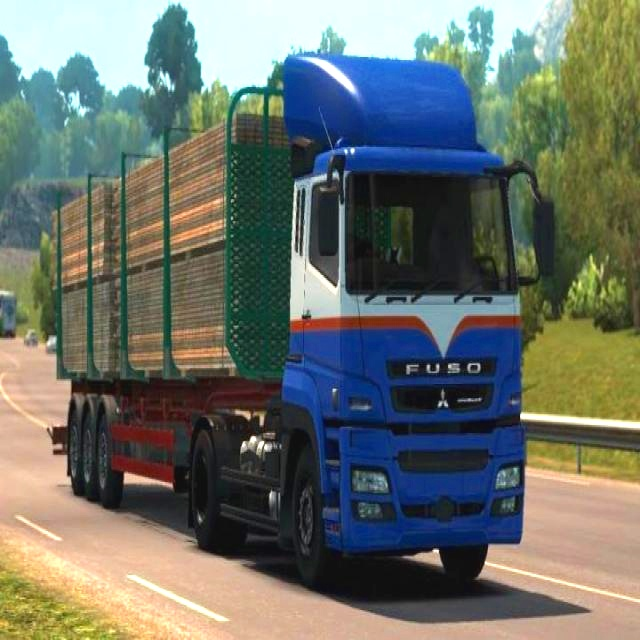truck: (25, 33, 582, 599)
